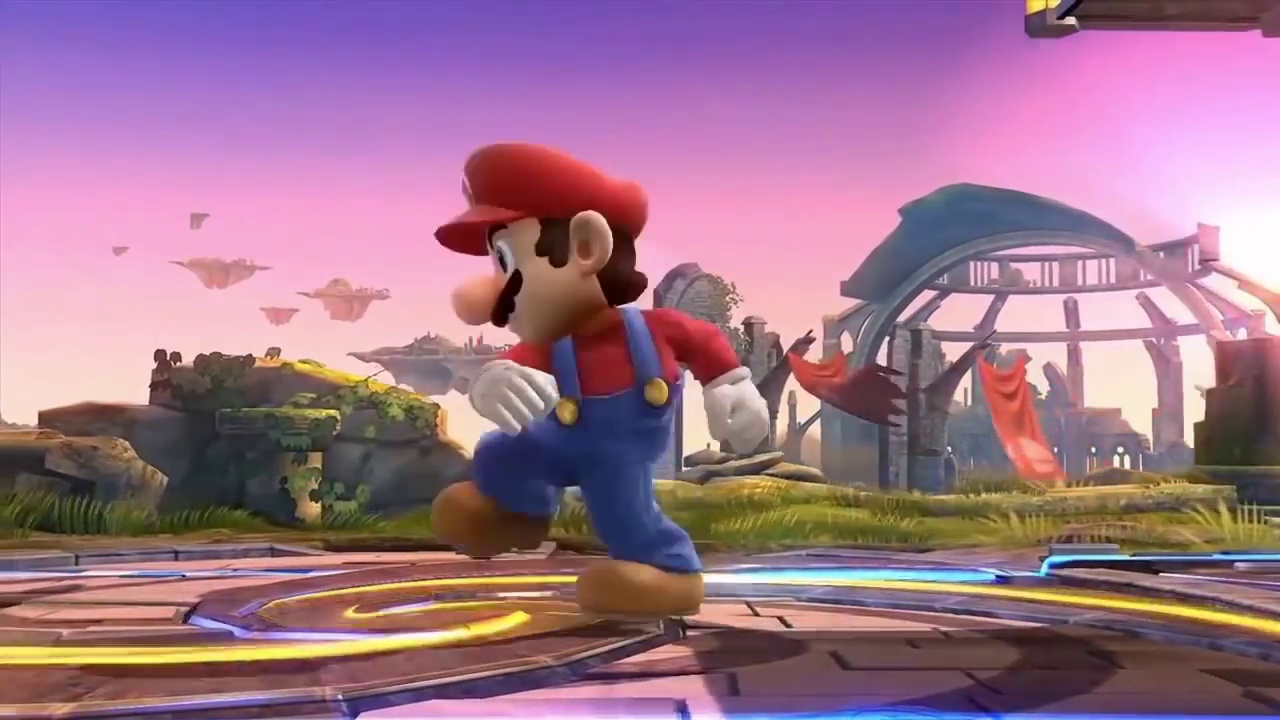Mario: (430, 145, 770, 617)
